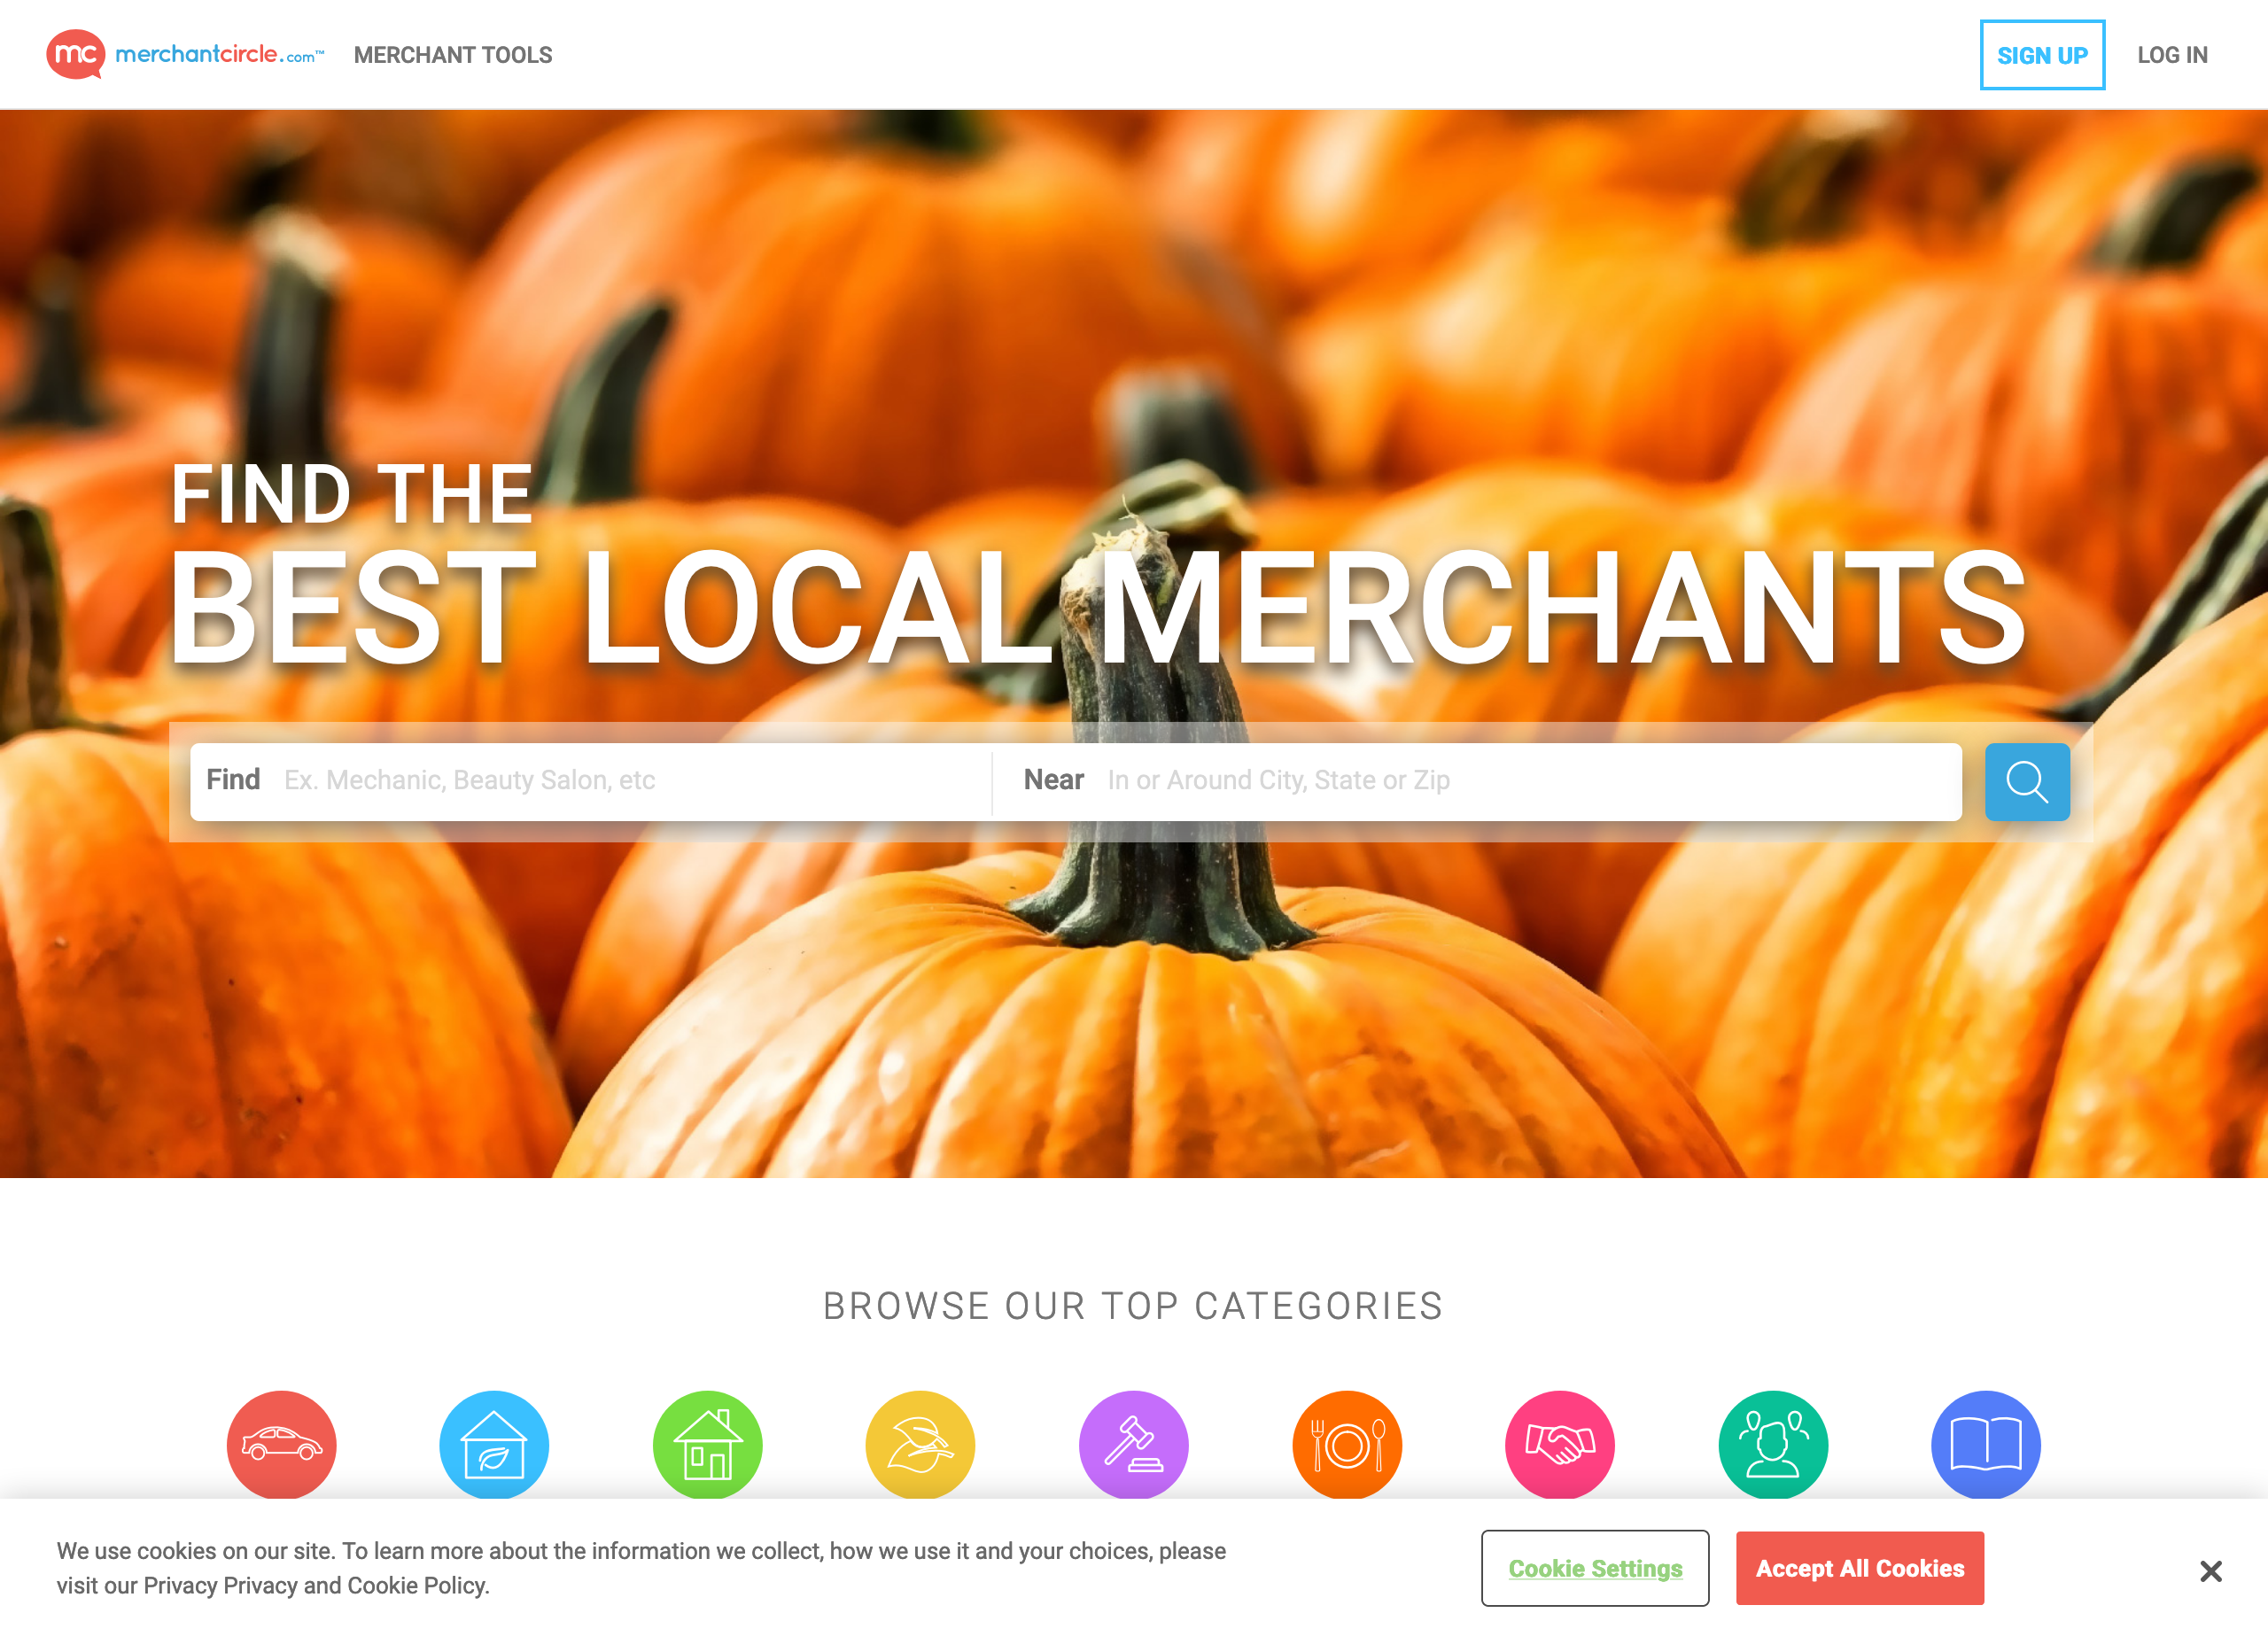Login: (2122, 21, 2226, 77)
